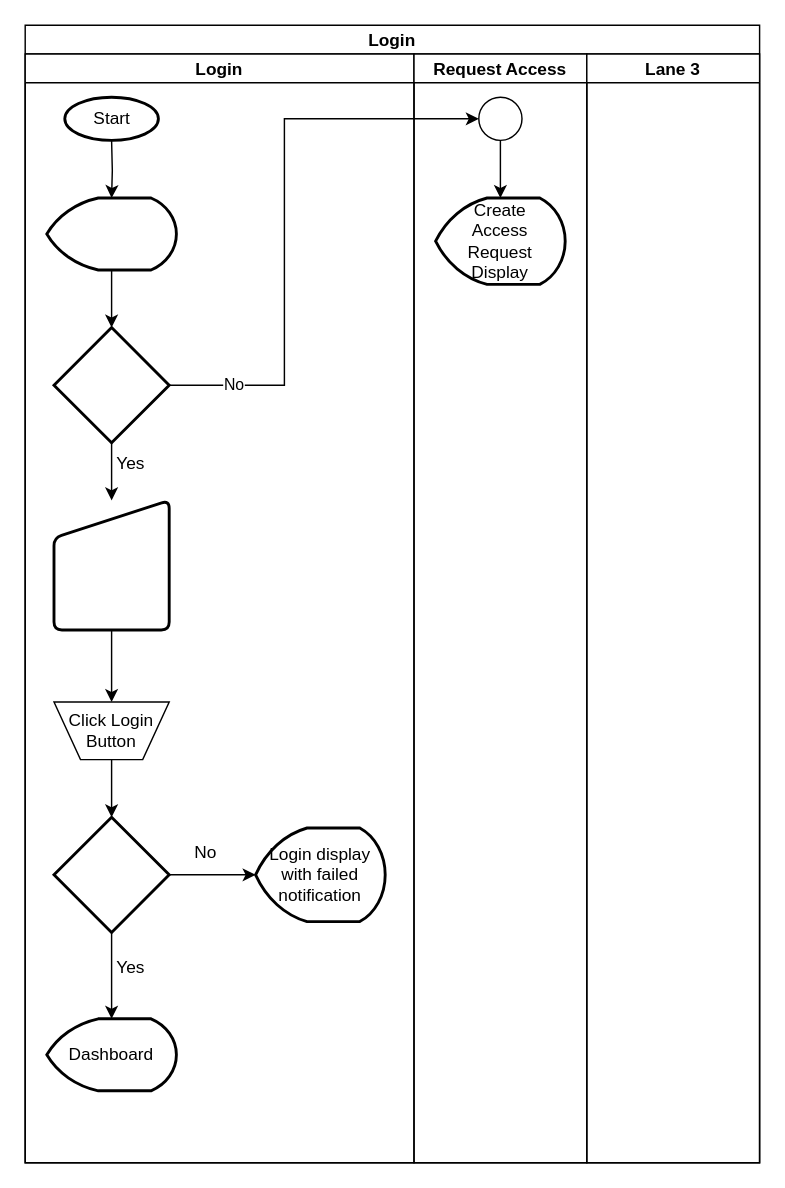
Some shapes in this 785 by 1188 pixel diagram are drawn without their labels. Each missing label, with the centre of its shape:
Have Account?: (x=111, y=384)
Input Username & Pin: (x=111, y=564)
Is the account exist?: (x=111, y=874)
Login Display: (x=111, y=233)
